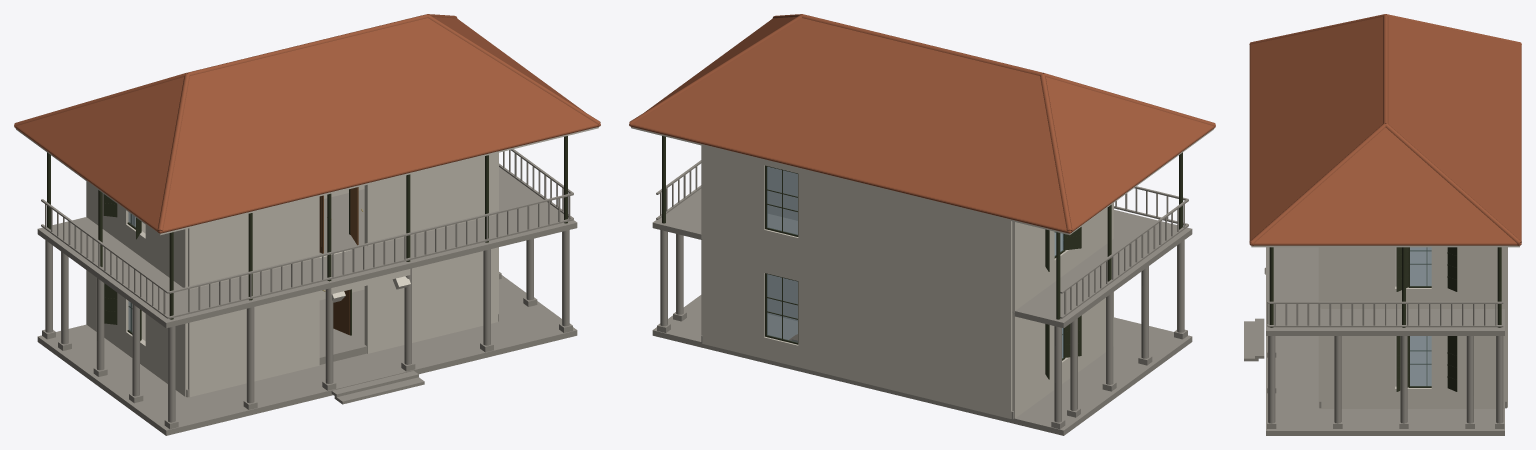
Rendered from french-colonial-villa.glb.
3 views of the same model, side by side, from view 1: azimuth 30°, elevation 25°; view 2: azimuth 150°, elevation 25°; view 3: azimuth 270°, elevation 25° (orthographic). The views are drawn at different scales.
Visible parts, largest first — view 1: Mesh_HippedRoofMesh, Mesh_BalconyFloorWithHole, Mesh_Foundation, Mesh_GroundFloor_WallFront_R, Mesh_GroundFloor_WallFront_L, Mesh_SecondFloor_WallFront_R, Mesh_Shaft (×10), Mesh_SecondFloor_WallFront_L, Mesh_GroundFloor_WallRight_R, Mesh_BaseTrim, Mesh_SecondFloor_WallRight_R, Mesh_GroundFloor_WallRight_L (+10 smaller); view 2: Mesh_HippedRoofMesh, Mesh_GroundFloor_WallBack_R, Mesh_SecondFloor_WallBack_R, Mesh_Foundation, Mesh_BalconyFloorWithHole, Mesh_GroundFloor_WallBack_L, Mesh_SecondFloor_WallBack_L, Mesh_Shaft (×7), Mesh_Glass (×2), Mesh_GroundFloor_WallRight_L, Mesh_SecondFloor_WallRight_L, Mesh_GroundFloor_WallRight_R (+12 smaller); view 3: Mesh_HippedRoofMesh, Mesh_BalconyFloorWithHole, Mesh_Foundation, Mesh_GroundFloor_WallLeft_R, Mesh_SecondFloor_WallLeft_R, Mesh_GroundFloor_WallLeft_L, Mesh_SecondFloor_WallLeft_L, Mesh_Shaft (×5), Mesh_Glass (×2), Mesh_BaseTrim, Mesh_ShutterR (×2), Mesh_RidgeCap1 (+15 smaller).
Part boxes in pixels (box(x1,y1,x2,y2)): Mesh_HippedRoofMesh: box(14, 17, 600, 233); Mesh_BalconyFloorWithHole: box(37, 167, 577, 328); Mesh_Foundation: box(37, 275, 577, 435); Mesh_GroundFloor_WallFront_R: box(188, 291, 319, 397); Mesh_GroundFloor_WallFront_L: box(364, 247, 497, 353); Mesh_SecondFloor_WallFront_R: box(188, 196, 319, 289); Mesh_Shaft (×10): box(45, 230, 569, 422); Mesh_SecondFloor_WallFront_L: box(364, 153, 497, 246); Mesh_GroundFloor_WallRight_R: box(145, 314, 187, 396); Mesh_BaseTrim: box(186, 289, 498, 397); Mesh_SecondFloor_WallRight_R: box(145, 225, 187, 287); Mesh_GroundFloor_WallRight_L: box(86, 270, 130, 353); Mesh_HippedRoofMesh: box(629, 17, 1215, 233); Mesh_GroundFloor_WallBack_R: box(798, 259, 1012, 418); Mesh_SecondFloor_WallBack_R: box(798, 169, 1012, 311); Mesh_Foundation: box(652, 295, 1192, 435); Mesh_BalconyFloorWithHole: box(652, 189, 1192, 328); Mesh_GroundFloor_WallBack_L: box(702, 236, 764, 358); Mesh_SecondFloor_WallBack_L: box(702, 145, 764, 250); Mesh_Shaft (×7): box(660, 230, 1184, 422); Mesh_Glass (×2): box(767, 166, 797, 342); Mesh_GroundFloor_WallRight_L: box(1012, 310, 1054, 418); Mesh_SecondFloor_WallRight_L: box(1012, 221, 1054, 310); Mesh_GroundFloor_WallRight_R: box(1078, 292, 1113, 372); Mesh_HippedRoofMesh: box(1249, 16, 1521, 245); Mesh_BalconyFloorWithHole: box(1266, 247, 1504, 335); Mesh_Foundation: box(1266, 336, 1504, 435); Mesh_GroundFloor_WallLeft_R: box(1321, 336, 1394, 408); Mesh_SecondFloor_WallLeft_R: box(1321, 247, 1394, 308); Mesh_GroundFloor_WallLeft_L: box(1431, 336, 1504, 408); Mesh_SecondFloor_WallLeft_L: box(1431, 247, 1504, 308); Mesh_Shaft (×5): box(1268, 336, 1503, 423); Mesh_Glass (×2): box(1410, 247, 1431, 386); Mesh_BaseTrim: box(1319, 336, 1506, 408); Mesh_ShutterR (×2): box(1447, 247, 1457, 391); Mesh_RidgeCap1: box(1385, 123, 1521, 245).
Bounding box in the file's own units: 12.93 × 8.23 × 7.56.
2 materials, 2 textured.
